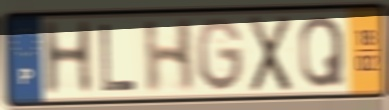G: (195, 15, 246, 95)
H: (39, 18, 96, 100), (141, 16, 196, 96)
L: (98, 21, 140, 94)
Q: (298, 14, 347, 91)
X: (247, 13, 293, 95)
